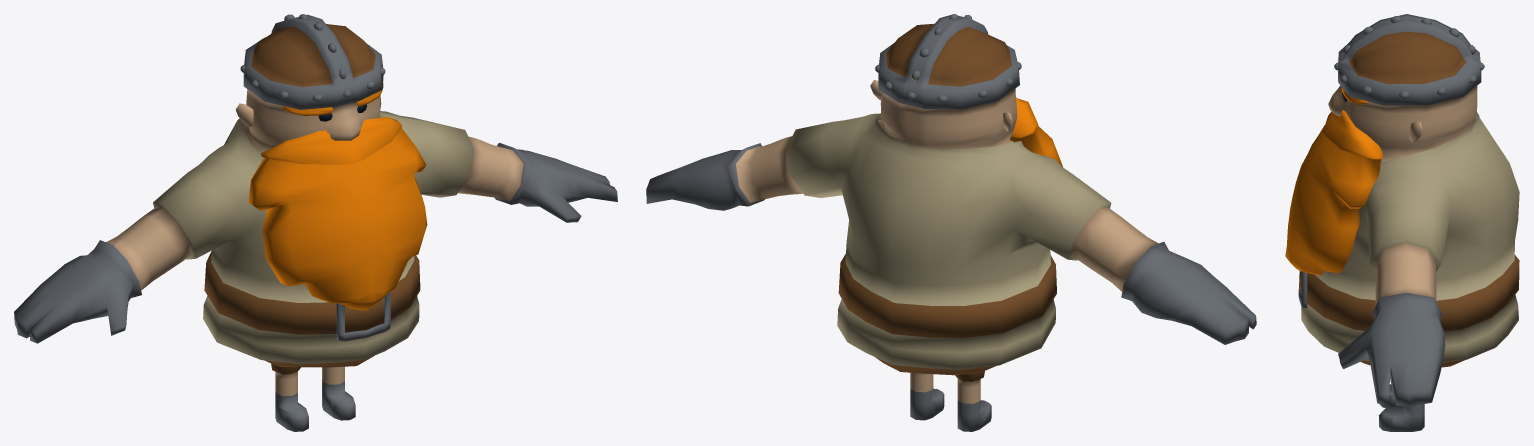
File: OldPlayer.fbx
3 views of the same model, side by side, from view 1: azimuth 30°, elevation 25°; view 2: azimuth 150°, elevation 25°; view 3: azimuth 270°, elevation 25° (orthographic).
Parts seen in each view (by area): view 1: Player.001; view 2: Player.001; view 3: Player.001.
Part boxes in pixels (x1,y1,x2,y2): Player.001: (14,14,617,431); Player.001: (646,14,1256,431); Player.001: (1285,14,1519,431).
Bounding box in the file's own units: 311 × 200 × 106.
